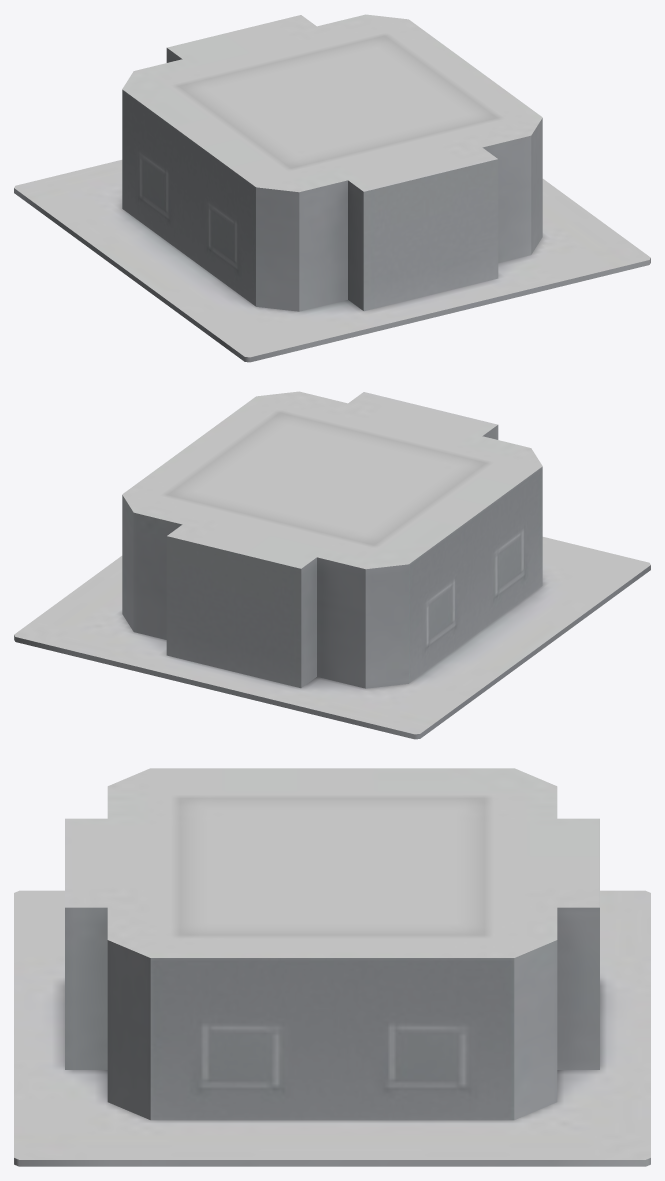
Rendered from Aircon_Ceiling02.gltf.
3 renders of one model, top to bottom at view 1: azimuth 30°, elevation 25°; view 2: azimuth 150°, elevation 25°; view 3: azimuth 270°, elevation 25°, orthographic. The views are drawn at different scales.
Visible parts, largest first — view 1: ceilingAircon; view 2: ceilingAircon; view 3: ceilingAircon.
Part boxes in pixels (<box>): ceilingAircon: <box>14,14,650,362</box>; ceilingAircon: <box>14,391,650,739</box>; ceilingAircon: <box>14,768,650,1166</box>.
Size of the model in its own units: 8.4 by 2.58 by 8.4.
Materials: 1 (1 with a texture image).
